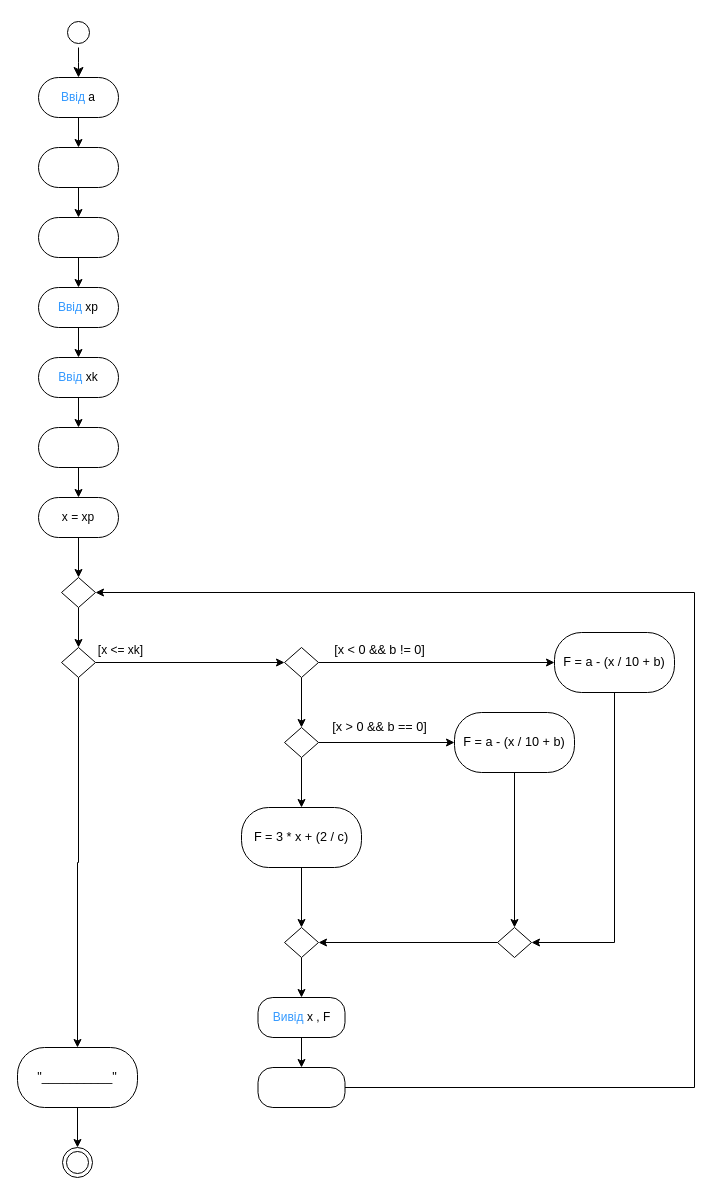
Image size: 720x1195. Some labels were removed from this diagram. Each missing label, with the centre of its shape:
"x += dx" belongs at (x=301, y=1087).
"Ввід b" belongs at (x=78, y=167).
"Ввід c" belongs at (x=78, y=237).
"Ввід dx" belongs at (x=78, y=447).
